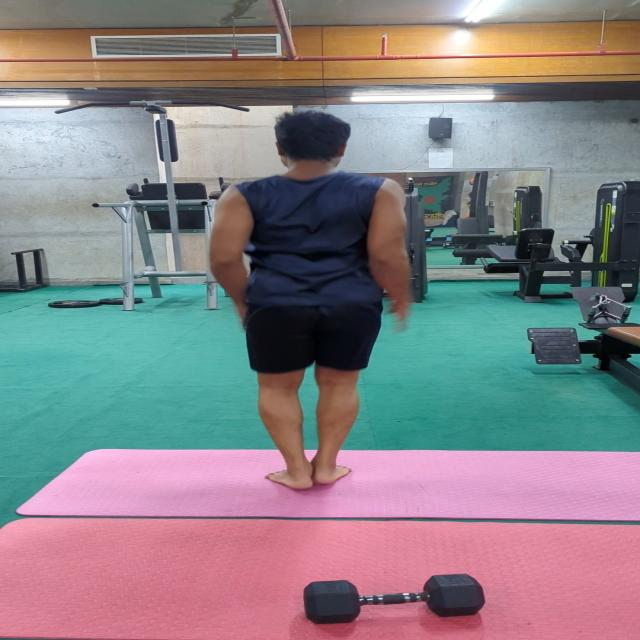Normal_JumpingJacks: (184, 102, 448, 499)
